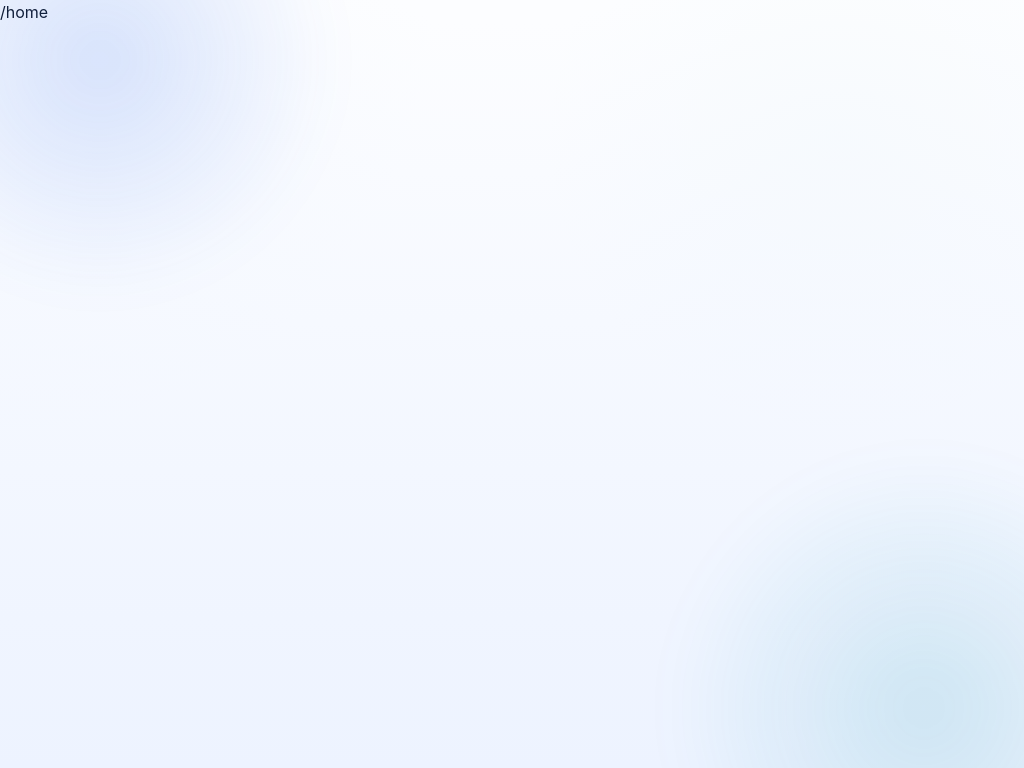
Test: CommandPalette › merges offline search results into the palette
Type keys "{Control>}k{/Control}"
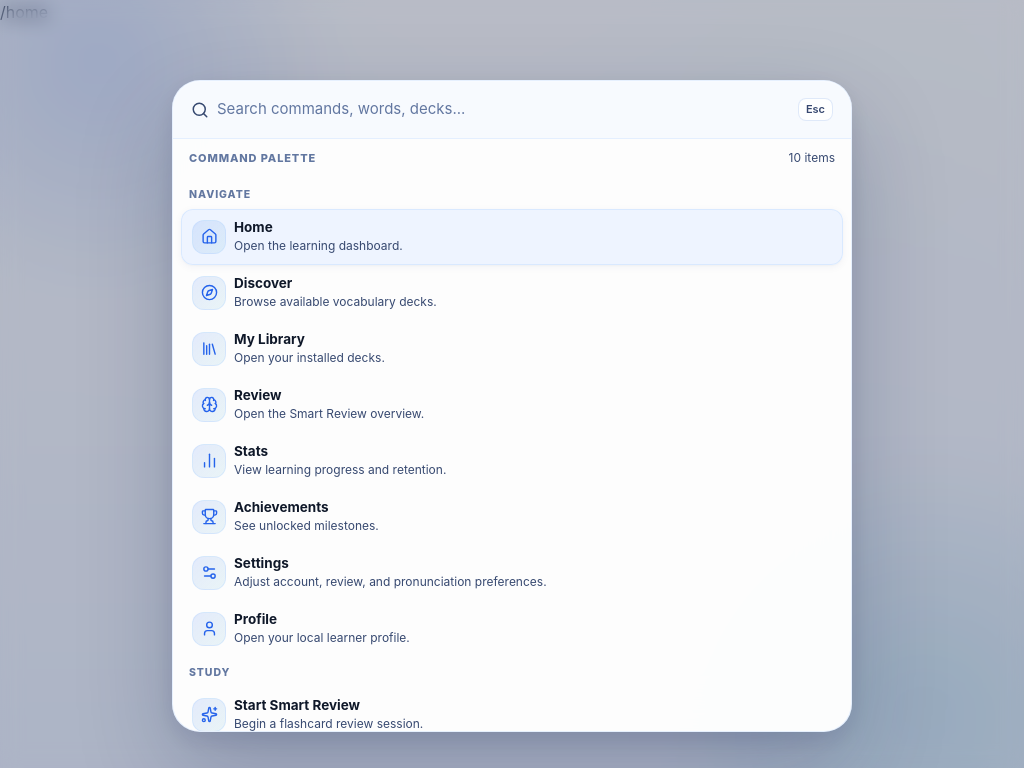
In the search field named "Command palette search": {"x": 503, "y": 110} [217, 98, 790, 121], type "ru"
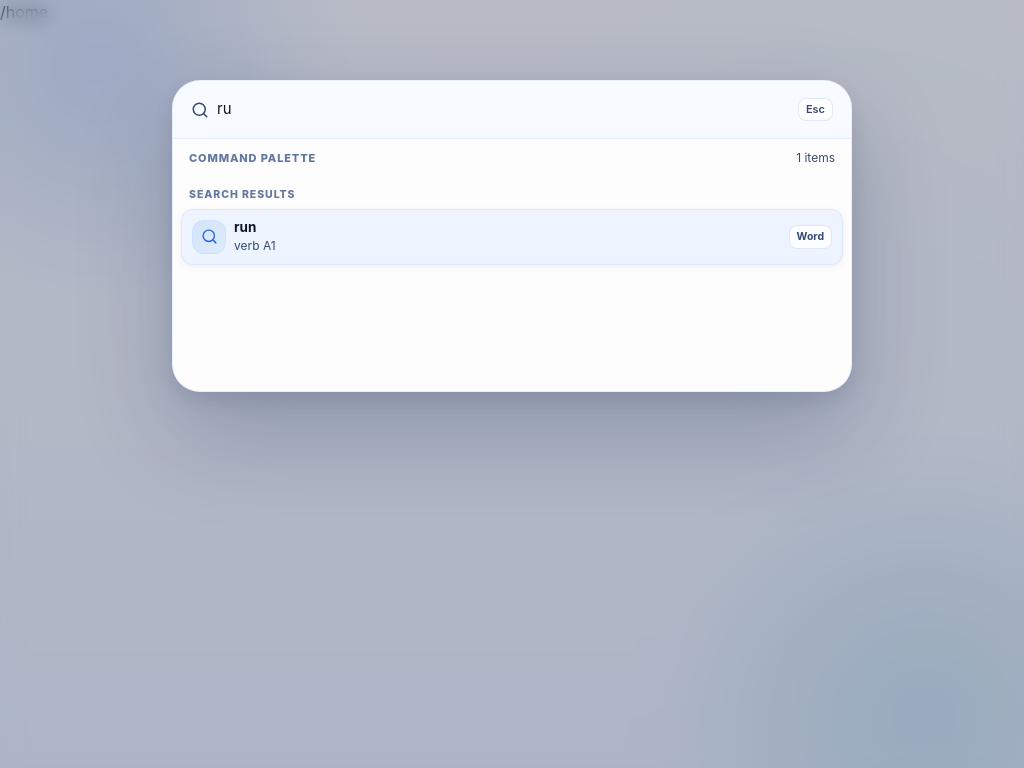
Result: the text "run" is shown at [234, 219, 256, 235]
Result: the text "Word" is shown at [788, 225, 832, 249]
